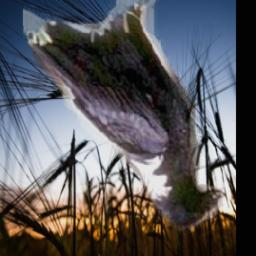Crow: (22, 0, 223, 235)
